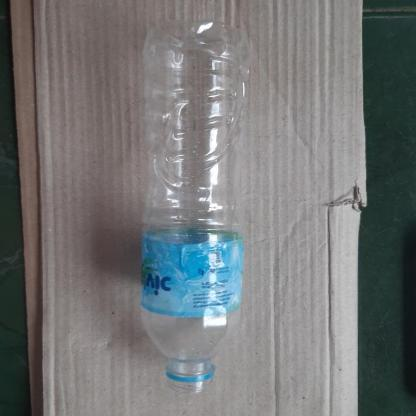Plastic Bottle: (140, 18, 250, 394)
